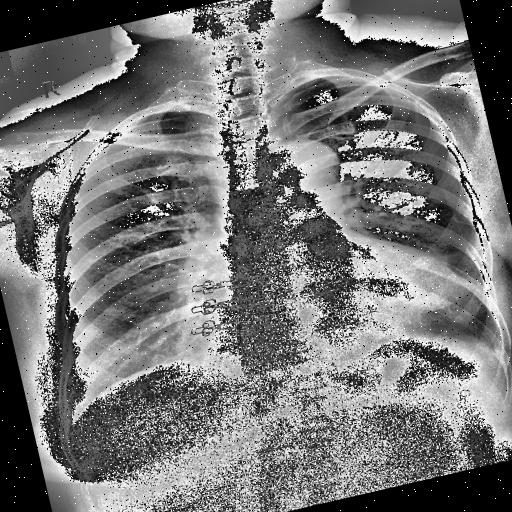0- Aortic enlargement: (254, 130, 348, 216), (263, 128, 348, 202), (256, 134, 346, 197)
3- Cardiomegaly: (197, 234, 482, 388), (196, 248, 487, 396), (200, 244, 481, 384)
